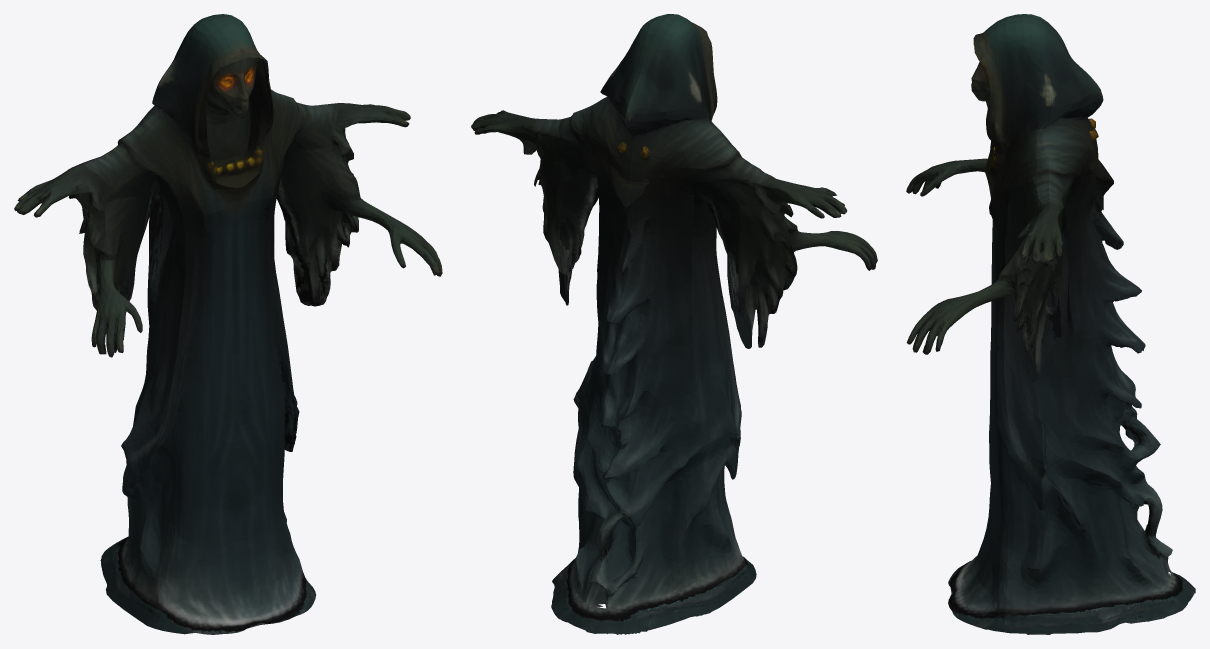
Rendered from dustmother.glb.
The picture shows the model from 3 angles, left to right: view 1: azimuth 30°, elevation 25°; view 2: azimuth 150°, elevation 25°; view 3: azimuth 270°, elevation 25°; orthographic projection. The views are drawn at different scales.
Parts seen in each view (by area): view 1: world; view 2: world; view 3: world.
Boxes of the visible parts, box(x1,y1,x2,y2) form: world: box(14, 14, 442, 634); world: box(471, 14, 877, 634); world: box(906, 14, 1195, 634).
Size of the model in its own units: 0.7062 by 1 by 0.4552.
1 material, 1 textured.
